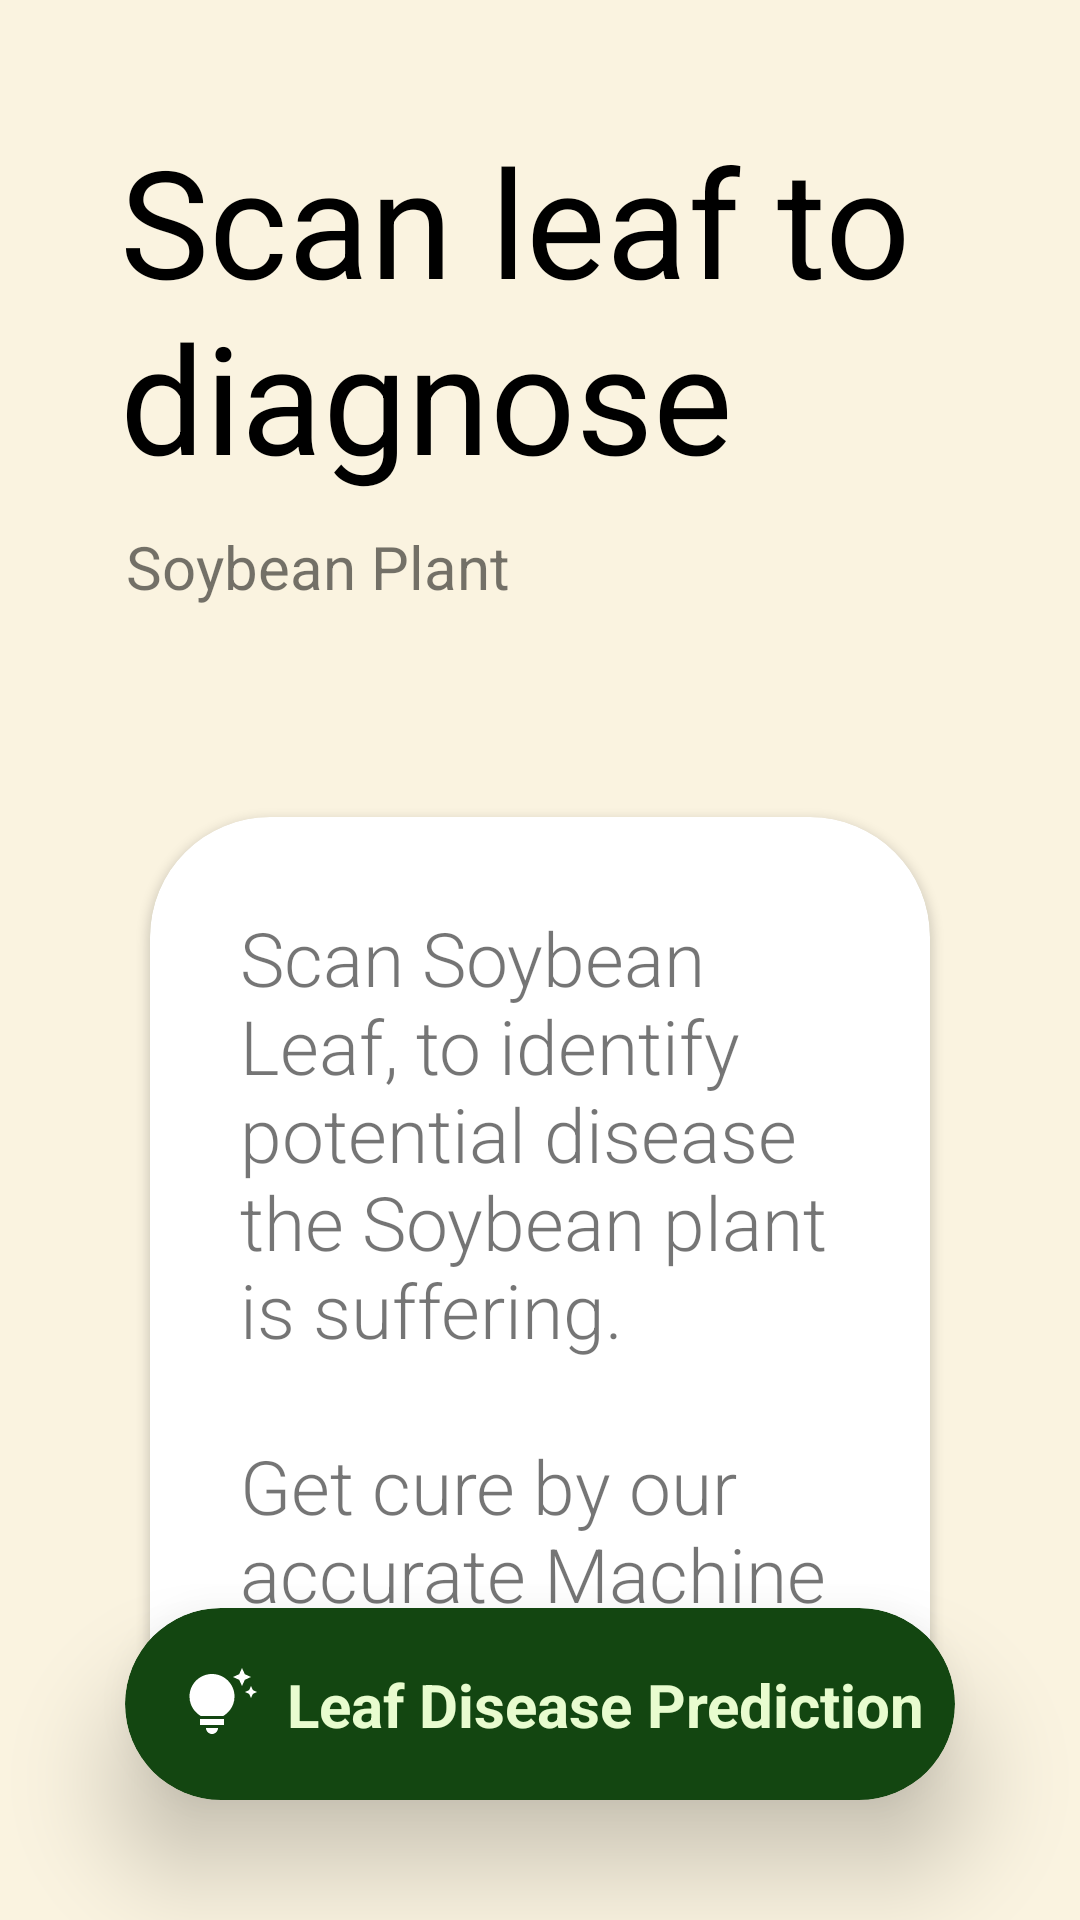

Screen size 1080×1920. Icon name, then its box in pixels as (x1, y1, x2, y2):
tips and updates: (189, 1668, 257, 1734)
